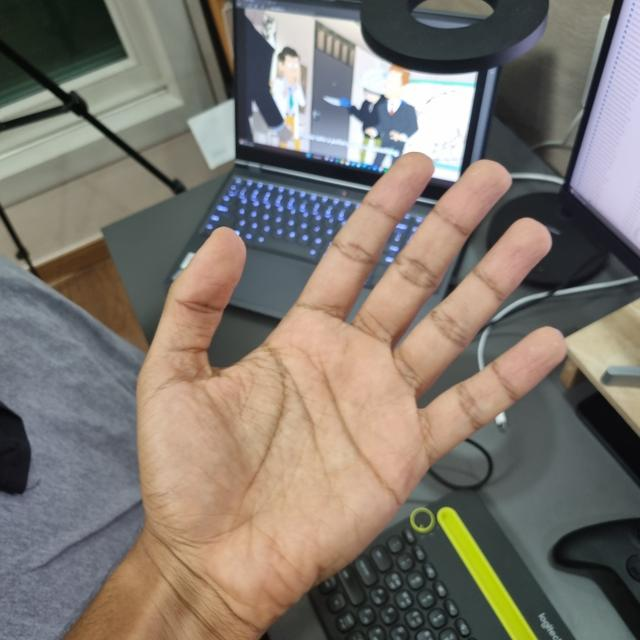Paper: (133, 155, 565, 607)
